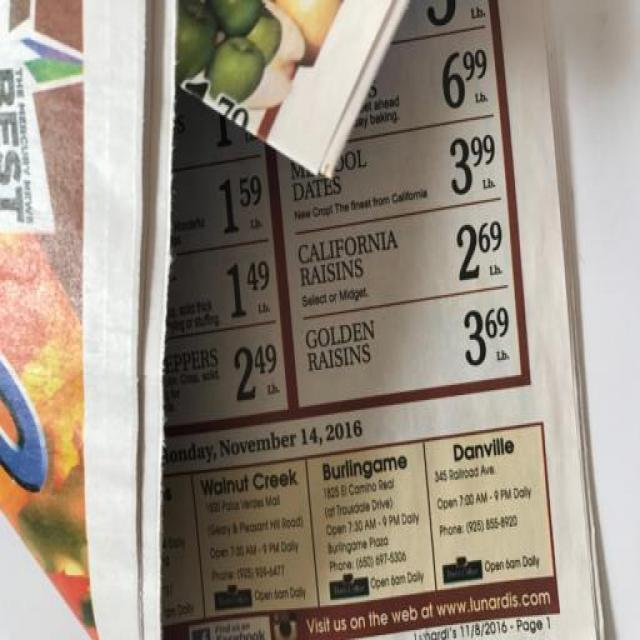paper: (3, 1, 595, 638)
